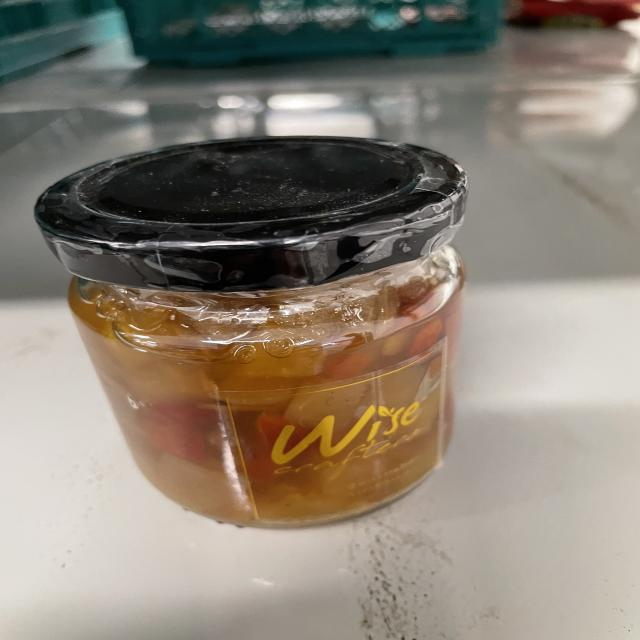object_name: (36, 154, 465, 524)
